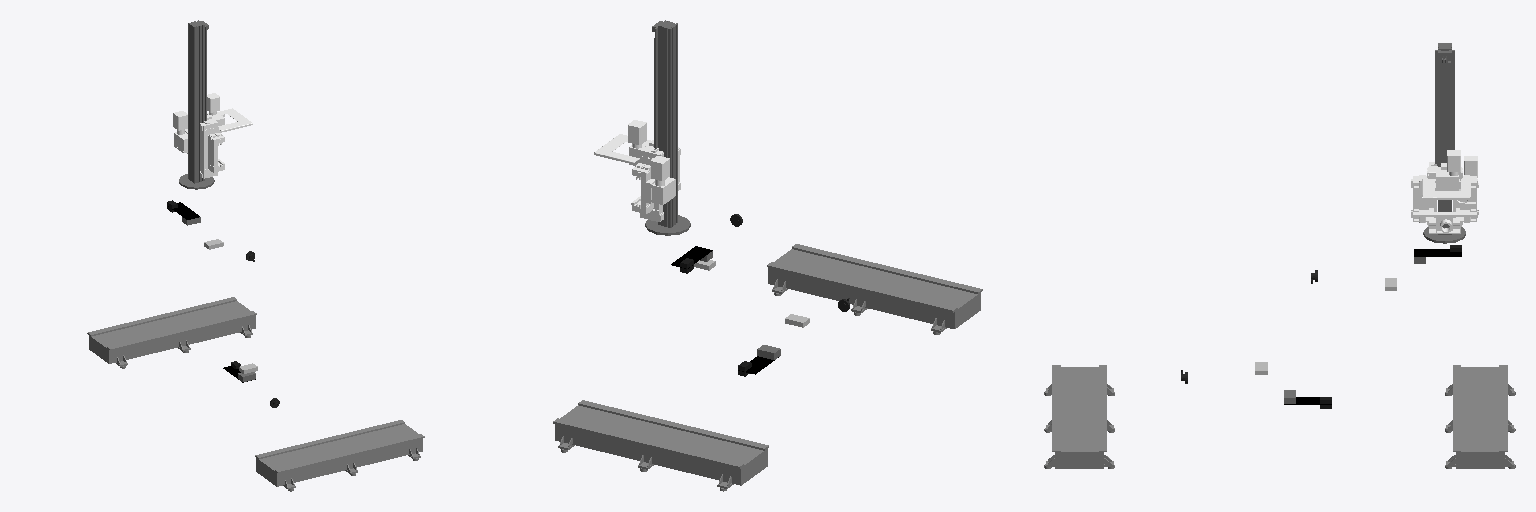
--- Render facts (derived) ---
The picture shows the robot from 3 angles, left to right: view 1: azimuth 30°, elevation 25°; view 2: azimuth 150°, elevation 25°; view 3: azimuth 270°, elevation 25°; orthographic projection.
Model robotlab with 37 links and 36 joints (12 revolute, 3 prismatic, 21 fixed), rooted at root, posed all joints at 0.
Visible links, largest first — view 1: gantry_link_base, gantry_link_arm, gantry_link_trolley; view 2: gantry_link_base, gantry_link_arm, gantry_link_trolley; view 3: gantry_link_base, gantry_link_trolley, gantry_link_arm.
Boxes of the visible links, x1,y1,x2,y2 form: gantry_link_base: (87,297,424,491); gantry_link_arm: (179,20,214,189); gantry_link_trolley: (173,93,252,178); gantry_link_base: (553,244,982,491); gantry_link_arm: (645,20,690,235); gantry_link_trolley: (594,120,680,221); gantry_link_base: (1044,365,1515,468); gantry_link_trolley: (1411,150,1478,233); gantry_link_arm: (1423,43,1465,243).
Size in the robot's own frame: 2.81 by 6.57 by 6.01 metres.
5 mesh visuals loaded from 12 distinct referenced files (4 binary STL); not drawn: 15 (reference not matched to a file when rendering).

robot.urdf — robotlab:
<?xml version="1.0"?>
<!-- =================================================================================== -->
<!-- |    This document was autogenerated by xacro from robotlab.xacro                 | -->
<!-- |    EDITING THIS FILE BY HAND IS NOT RECOMMENDED                                 | -->
<!-- =================================================================================== -->
<!--Generates a urdf from the macro in gantry_macro.xacro -->
<robot xmlns:xacro="http://www.ros.org/wiki/xacro" name="robotlab">
  <!-- created with Phobos 0.7 -->
  <link name="gantry_link_arm">
    <inertial>
      <origin rpy="0 0 0" xyz="0 0 0"/>
      <mass value="100.0"/>
      <inertia ixx="77.157539" ixy="-0.43952" ixz="-0.013708" iyy="77.235046" iyz="-8e-06" izz="1.060431"/>
    </inertial>
    <visual name="gantry_visual_arm">
      <origin rpy="1.57079632679 0 0" xyz="0 0 0"/>
      <geometry>
        <mesh filename="package://gantry_support/meshes/VIFS96.stl" scale="1.0 1.0 1.0"/>
      </geometry>
      <material name="gantry_VMtl98"/>
    </visual>
    <collision name="gantry_collision_arm">
      <origin rpy="0 0 0" xyz="0 0 1.34717"/>
      <geometry>
        <mesh filename="package://gantry_support/meshes/Cylinder.stl" scale="0.188288 0.188288 0.188288"/>
      </geometry>
    </collision>
  </link>
  <link name="gantry_link_base">
    <inertial>
      <origin rpy="0 0 0" xyz="0 0 0"/>
      <mass value="100.0"/>
      <inertia ixx="71.623734" ixy="3.1e-05" ixz="0" iyy="788.87262" iyz="1.2e-05" izz="851.100647"/>
    </inertial>
    <visual name="gantry_visual_base">
      <origin rpy="1.57079632679 -1.57079632679 0" xyz="0 0 0"/>
      <geometry>
        <mesh filename="package://gantry_support/meshes/VIFS01.001.stl" scale="1.0 1.0 1.0"/>
      </geometry>
      <material name="gantry_03___Default.001"/>
    </visual>
    <collision name="gantry_collision_base">
      <origin rpy="1.57079632679 -1.57079632679 0" xyz="0 0 0"/>
      <geometry>
        <mesh filename="package://gantry_support/meshes/VIFS01.000.stl" scale="1.0 1.0 1.0"/>
      </geometry>
    </collision>
  </link>
  <link name="gantry_link_leg">
    <inertial>
      <origin rpy="0 0 0" xyz="0 0.114805 -0.069116"/>
      <mass value="1000.0"/>
      <inertia ixx="1880.551147" ixy="0.000232" ixz="0" iyy="7958.77002" iyz="-13.379694" izz="6216.929688"/>
    </inertial>
    <visual name="gantry_visual_leg">
      <origin rpy="1.57079632679 -1.57079632679 0" xyz="0 0.114805 -0.069116"/>
      <geometry>
        <mesh filename="package://gantry_support/meshes/VIFS42.001.stl" scale="1.0 1.0 1.0"/>
      </geometry>
      <material name="gantry_01___Default.001"/>
    </visual>
    <collision name="gantry_collision_leg">
      <origin rpy="1.57079632679 -1.57079632679 0" xyz="0.000315 0.114805 -0.069116"/>
      <geometry>
        <mesh filename="package://gantry_support/meshes/VIFS42.000.stl" scale="1.0 1.0 1.0"/>
      </geometry>
    </collision>
  </link>
  <link name="gantry_link_trolley">
    <inertial>
      <origin rpy="0 0 0" xyz="0 0 0"/>
      <mass value="100.0"/>
      <inertia ixx="15.599652" ixy="1.71094" ixz="1.886528" iyy="9.19625" iyz="0.938975" izz="14.022485"/>
    </inertial>
    <visual name="gantry_visual_trolley">
      <origin rpy="-3.14159265359 0 0" xyz="0 0 0"/>
      <geometry>
        <mesh filename="package://gantry_support/meshes/VIFS43.001.stl" scale="1.0 1.0 1.0"/>
      </geometry>
      <material name="gantry_02___Default.001"/>
    </visual>
    <collision name="gantry_collision_trolley">
      <origin rpy="1.57079632679 0 0" xyz="-0.020567 0.254046 -0.042038"/>
      <geometry>
        <mesh filename="package://gantry_support/meshes/Cube.005.stl" scale="0.129538 0.485533 0.188935"/>
      </geometry>
    </collision>
  </link>
  <link name="gantry_robot_connection">
    </link>
  <link name="gantry_root">
    </link>
  <joint name="gantry_joint_e3" type="prismatic">
    <origin rpy="1.57079632679 0 0" xyz="-0.164527 -0.651668 -0.053205"/>
    <parent link="gantry_link_trolley"/>
    <child link="gantry_link_arm"/>
    <axis xyz="0 0 1.0"/>
    <limit effort="1.0" lower="-1.6" upper="0" velocity="0.55"/>
  </joint>
  <joint name="gantry_link_base" type="fixed">
    <origin rpy="0 1.57079632679 0" xyz="0 0 0"/>
    <parent link="gantry_root"/>
    <child link="gantry_link_base"/>
  </joint>
  <joint name="gantry_joint_e1" type="prismatic">
    <origin rpy="0 0 0" xyz="-2.570369 -0.057403 0.844145"/>
    <parent link="gantry_link_base"/>
    <child link="gantry_link_leg"/>
    <axis xyz="0 0 -1.0"/>
    <limit effort="1.0" lower="0" upper="1.54" velocity="0.5"/>
  </joint>
  <joint name="gantry_joint_e2" type="prismatic">
    <origin rpy="-1.57079632679 -1.57079632679 0" xyz="-1.277963 2.407403 -0.476427"/>
    <parent link="gantry_link_leg"/>
    <child link="gantry_link_trolley"/>
    <axis xyz="0 0 -1.0"/>
    <limit effort="1.0" lower="0" upper="4.7" velocity="0.83"/>
  </joint>
  <joint name="gantry_robot_connection" type="fixed">
    <origin rpy="-3.14159265359 0 0" xyz="-0.026405 0.000343 -1.392678"/>
    <parent link="gantry_link_arm"/>
    <child link="gantry_robot_connection"/>
  </joint>
  <material name="gantry_01___Default.001">
    <color rgba="0.1922 0.4588 1.0 1.0"/>
  </material>
  <material name="gantry_02___Default.001">
    <color rgba="1.0 1.0 1.0 1.0"/>
  </material>
  <material name="gantry_03___Default.001">
    <color rgba="0.5882 0.5882 0.5882 1.0"/>
  </material>
  <material name="gantry_VMtl98">
    <color rgba="0.5 0.5 0.5 1.0"/>
  </material>
  <!-- LINKS -->
  <!-- base link -->
  <link name="gantry_base_link">
    <inertial>
      <origin rpy="0 0 0" xyz="0 0 0"/>
      <mass value="2"/>
      <inertia ixx="0.01" ixy="0" ixz="0" iyy="0.01" iyz="0" izz="0.01"/>
    </inertial>
    <visual>
      <origin rpy="0 0 0" xyz="0 0 0"/>
      <geometry>
        <mesh filename="package://kuka_kr16_support/meshes/kr16_2/visual/base_link.dae"/>
      </geometry>
    </visual>
    <collision>
      <origin rpy="0 0 0" xyz="0 0 0"/>
      <geometry>
        <mesh filename="package://kuka_kr16_support/meshes/kr16_2/collision/base_link.stl"/>
      </geometry>
    </collision>
  </link>
  <!-- link 1 (A1) -->
  <link name="gantry_link_1">
    <inertial>
      <origin rpy="0 0 0" xyz="0 0 0"/>
      <mass value="2"/>
      <inertia ixx="0.01" ixy="0" ixz="0" iyy="0.01" iyz="0" izz="0.01"/>
    </inertial>
    <visual>
      <origin rpy="0 0 0" xyz="0 0 0"/>
      <geometry>
        <mesh filename="package://kuka_kr16_support/meshes/kr16_2/visual/link_1.dae"/>
      </geometry>
    </visual>
    <collision>
      <origin rpy="0 0 0" xyz="0 0 0"/>
      <geometry>
        <mesh filename="package://kuka_kr16_support/meshes/kr16_2/collision/link_1.stl"/>
      </geometry>
    </collision>
  </link>
  <!-- link 2 -->
  <link name="gantry_link_2">
    <inertial>
      <origin rpy="0 0 0" xyz="0 0 0"/>
      <mass value="2"/>
      <inertia ixx="0.01" ixy="0" ixz="0" iyy="0.01" iyz="0" izz="0.01"/>
    </inertial>
    <visual>
      <origin rpy="0 0 0" xyz="0 0 0"/>
      <geometry>
        <mesh filename="package://kuka_kr16_support/meshes/kr16_2/visual/link_2.dae"/>
      </geometry>
    </visual>
    <collision>
      <origin rpy="0 0 0" xyz="0 0 0"/>
      <geometry>
        <mesh filename="package://kuka_kr16_support/meshes/kr16_2/collision/link_2.stl"/>
      </geometry>
    </collision>
  </link>
  <!-- link 3 -->
  <link name="gantry_link_3">
    <inertial>
      <origin rpy="0 0 0" xyz="0 0 0"/>
      <mass value="2"/>
      <inertia ixx="0.01" ixy="0" ixz="0" iyy="0.01" iyz="0" izz="0.01"/>
    </inertial>
    <visual>
      <origin rpy="0 0 0" xyz="0 0 0"/>
      <geometry>
        <mesh filename="package://kuka_kr16_support/meshes/kr16_2/visual/link_3.dae"/>
      </geometry>
    </visual>
    <collision>
      <origin rpy="0 0 0" xyz="0 0 0"/>
      <geometry>
        <mesh filename="package://kuka_kr16_support/meshes/kr16_2/collision/link_3.stl"/>
      </geometry>
    </collision>
  </link>
  <!-- link 4 -->
  <link name="gantry_link_4">
    <inertial>
      <origin rpy="0 0 0" xyz="0 0 0"/>
      <mass value="2"/>
      <inertia ixx="0.01" ixy="0" ixz="0" iyy="0.01" iyz="0" izz="0.01"/>
    </inertial>
    <visual>
      <origin rpy="0 0 0" xyz="0 0 0"/>
      <geometry>
        <mesh filename="package://kuka_kr16_support/meshes/kr16_2/visual/link_4.dae"/>
      </geometry>
    </visual>
    <collision>
      <origin rpy="0 0 0" xyz="0 0 0"/>
      <geometry>
        <mesh filename="package://kuka_kr16_support/meshes/kr16_2/collision/link_4.stl"/>
      </geometry>
    </collision>
  </link>
  <!-- link 5 -->
  <link name="gantry_link_5">
    <inertial>
      <origin rpy="0 0 0" xyz="0 0 0"/>
      <mass value="2"/>
      <inertia ixx="0.01" ixy="0" ixz="0" iyy="0.01" iyz="0" izz="0.01"/>
    </inertial>
    <visual>
      <origin rpy="0 0 0" xyz="0 0 0"/>
      <geometry>
        <mesh filename="package://kuka_kr16_support/meshes/kr16_2/visual/link_5.dae"/>
      </geometry>
    </visual>
    <collision>
      <origin rpy="0 0 0" xyz="0 0 0"/>
      <geometry>
        <mesh filename="package://kuka_kr16_support/meshes/kr16_2/collision/link_5.stl"/>
      </geometry>
    </collision>
  </link>
  <!-- link 6 -->
  <link name="gantry_link_6">
    <inertial>
      <origin rpy="0 0 0" xyz="0 0 0"/>
      <mass value="2"/>
      <inertia ixx="0.01" ixy="0" ixz="0" iyy="0.01" iyz="0" izz="0.01"/>
    </inertial>
    <visual>
      <origin rpy="0 0 0" xyz="0 0 0"/>
      <geometry>
        <mesh filename="package://kuka_kr16_support/meshes/kr16_2/visual/link_6.dae"/>
      </geometry>
    </visual>
    <collision>
      <origin rpy="0 0 0" xyz="0 0 0"/>
      <geometry>
        <mesh filename="package://kuka_kr16_support/meshes/kr16_2/collision/link_6.stl"/>
      </geometry>
    </collision>
  </link>
  <!-- tool 0 -->
  <!-- This frame corresponds to the $FLANGE coordinate system in KUKA KRC controllers. -->
  <link name="gantry_tool0"/>
  <!-- END LINKS -->
  <!-- JOINTS -->
  <!-- joint 1 (A1) -->
  <joint name="gantry_joint_a1" type="revolute">
    <origin rpy="0 0 0" xyz="0 0 0.675"/>
    <parent link="gantry_base_link"/>
    <child link="gantry_link_1"/>
    <axis xyz="0 0 -1"/>
    <limit effort="0" lower="-3.22885911619" upper="3.22885911619" velocity="2.72271363311"/>
  </joint>
  <!-- joint 2 (A2) -->
  <joint name="gantry_joint_a2" type="revolute">
    <origin rpy="0 0 0" xyz="0.26 0 0"/>
    <parent link="gantry_link_1"/>
    <child link="gantry_link_2"/>
    <axis xyz="0 1 0"/>
    <limit effort="0" lower="-2.70526034059" upper="0.610865238198" velocity="2.72271363311"/>
  </joint>
  <!-- joint 3 (A3) -->
  <joint name="gantry_joint_a3" type="revolute">
    <origin rpy="0 0 0" xyz="0.68 0 0"/>
    <parent link="gantry_link_2"/>
    <child link="gantry_link_3"/>
    <axis xyz="0 1 0"/>
    <limit effort="0" lower="-2.26892802759" upper="2.68780704807" velocity="2.72271363311"/>
  </joint>
  <!-- joint 4 (A4) -->
  <joint name="gantry_joint_a4" type="revolute">
    <origin rpy="0 0 0" xyz="0.67 0 -0.035"/>
    <parent link="gantry_link_3"/>
    <child link="gantry_link_4"/>
    <axis xyz="-1 0 0"/>
    <limit effort="0" lower="-6.10865238198" upper="6.10865238198" velocity="5.75958653158"/>
  </joint>
  <!-- joint 5 (A5) -->
  <joint name="gantry_joint_a5" type="revolute">
    <origin rpy="0 0 0" xyz="0 0 0"/>
    <parent link="gantry_link_4"/>
    <child link="gantry_link_5"/>
    <axis xyz="0 1 0"/>
    <limit effort="0" lower="-2.26892802759" upper="2.26892802759" velocity="5.75958653158"/>
  </joint>
  <!-- joint 6 (A6) -->
  <joint name="gantry_joint_a6" type="revolute">
    <origin rpy="0 0 0" xyz="0 0 0"/>
    <parent link="gantry_link_5"/>
    <child link="gantry_link_6"/>
    <axis xyz="-1 0 0"/>
    <limit effort="0" lower="-6.10865238198" upper="6.10865238198" velocity="10.7337748998"/>
  </joint>
  <!-- tool frame - fixed frame -->
  <joint name="gantry_joint_a6-tool0" type="fixed">
    <parent link="gantry_link_6"/>
    <child link="gantry_tool0"/>
    <origin rpy="0 1.57079632679 0" xyz="0.158 0 0"/>
  </joint>
  <!-- END JOINTS -->
  <!-- ROS base_link to KUKA $ROBROOT coordinate system transform -->
  <link name="gantry_base"/>
  <joint name="gantry_base_link-base" type="fixed">
    <origin rpy="0 0 0" xyz="0 0 0"/>
    <parent link="gantry_base_link"/>
    <child link="gantry_base"/>
  </joint>
  <joint name="gantry_gantry_robot" type="fixed">
    <origin rpy="0 0 1.57079632679" xyz="0 0 0"/>
    <parent link="gantry_robot_connection"/>
    <child link="gantry_base_link"/>
  </joint>
  <!-- LINKS -->
  <!-- base link -->
  <link name="floor_base_link">
    <inertial>
      <origin rpy="0 0 0" xyz="0 0 0"/>
      <mass value="2"/>
      <inertia ixx="0.01" ixy="0" ixz="0" iyy="0.01" iyz="0" izz="0.01"/>
    </inertial>
    <visual>
      <origin rpy="0 0 0" xyz="0 0 0"/>
      <geometry>
        <mesh filename="package://kuka_kr16_support/meshes/kr16_2/visual/base_link.dae"/>
      </geometry>
    </visual>
    <collision>
      <origin rpy="0 0 0" xyz="0 0 0"/>
      <geometry>
        <mesh filename="package://kuka_kr16_support/meshes/kr16_2/collision/base_link.stl"/>
      </geometry>
    </collision>
  </link>
  <!-- link 1 (A1) -->
  <link name="floor_link_1">
    <inertial>
      <origin rpy="0 0 0" xyz="0 0 0"/>
      <mass value="2"/>
      <inertia ixx="0.01" ixy="0" ixz="0" iyy="0.01" iyz="0" izz="0.01"/>
    </inertial>
    <visual>
      <origin rpy="0 0 0" xyz="0 0 0"/>
      <geometry>
        <mesh filename="package://kuka_kr16_support/meshes/kr16_2/visual/link_1.dae"/>
      </geometry>
    </visual>
    <collision>
      <origin rpy="0 0 0" xyz="0 0 0"/>
      <geometry>
        <mesh filename="package://kuka_kr16_support/meshes/kr16_2/collision/link_1.stl"/>
      </geometry>
    </collision>
  </link>
  <!-- link 2 -->
  <link name="floor_link_2">
    <inertial>
      <origin rpy="0 0 0" xyz="0 0 0"/>
      <mass value="2"/>
      <inertia ixx="0.01" ixy="0" ixz="0" iyy="0.01" iyz="0" izz="0.01"/>
    </inertial>
    <visual>
      <origin rpy="0 0 0" xyz="0 0 0"/>
      <geometry>
        <mesh filename="package://kuka_kr16_support/meshes/kr16_2/visual/link_2.dae"/>
      </geometry>
    </visual>
    <collision>
      <origin rpy="0 0 0" xyz="0 0 0"/>
      <geometry>
        <mesh filename="package://kuka_kr16_support/meshes/kr16_2/collision/link_2.stl"/>
      </geometry>
    </collision>
  </link>
  <!-- link 3 -->
  <link name="floor_link_3">
    <inertial>
      <origin rpy="0 0 0" xyz="0 0 0"/>
      <mass value="2"/>
      <inertia ixx="0.01" ixy="0" ixz="0" iyy="0.01" iyz="0" izz="0.01"/>
    </inertial>
    <visual>
      <origin rpy="0 0 0" xyz="0 0 0"/>
      <geometry>
        <mesh filename="package://kuka_kr16_support/meshes/kr16_2/visual/link_3.dae"/>
      </geometry>
    </visual>
    <collision>
      <origin rpy="0 0 0" xyz="0 0 0"/>
      <geometry>
        <mesh filename="package://kuka_kr16_support/meshes/kr16_2/collision/link_3.stl"/>
      </geometry>
    </collision>
  </link>
  <!-- link 4 -->
  <link name="floor_link_4">
    <inertial>
      <origin rpy="0 0 0" xyz="0 0 0"/>
      <mass value="2"/>
      <inertia ixx="0.01" ixy="0" ixz="0" iyy="0.01" iyz="0" izz="0.01"/>
    </inertial>
    <visual>
      <origin rpy="0 0 0" xyz="0 0 0"/>
      <geometry>
        <mesh filename="package://kuka_kr16_support/meshes/kr16_2/visual/link_4.dae"/>
      </geometry>
    </visual>
    <collision>
      <origin rpy="0 0 0" xyz="0 0 0"/>
      <geometry>
        <mesh filename="package://kuka_kr16_support/meshes/kr16_2/collision/link_4.stl"/>
      </geometry>
    </collision>
  </link>
  <!-- link 5 -->
  <link name="floor_link_5">
    <inertial>
      <origin rpy="0 0 0" xyz="0 0 0"/>
      <mass value="2"/>
      <inertia ixx="0.01" ixy="0" ixz="0" iyy="0.01" iyz="0" izz="0.01"/>
    </inertial>
    <visual>
      <origin rpy="0 0 0" xyz="0 0 0"/>
      <geometry>
        <mesh filename="package://kuka_kr16_support/meshes/kr16_2/visual/link_5.dae"/>
      </geometry>
    </visual>
    <collision>
      <origin rpy="0 0 0" xyz="0 0 0"/>
      <geometry>
        <mesh filename="package://kuka_kr16_support/meshes/kr16_2/collision/link_5.stl"/>
      </geometry>
    </collision>
  </link>
  <!-- link 6 -->
  <link name="floor_link_6">
    <inertial>
      <origin rpy="0 0 0" xyz="0 0 0"/>
      <mass value="2"/>
      <inertia ixx="0.01" ixy="0" ixz="0" iyy="0.01" iyz="0" izz="0.01"/>
    </inertial>
    <visual>
      <origin rpy="0 0 0" xyz="0 0 0"/>
      <geometry>
        <mesh filename="package://kuka_kr16_support/meshes/kr16_2/visual/link_6.dae"/>
      </geometry>
    </visual>
    <collision>
      <origin rpy="0 0 0" xyz="0 0 0"/>
      <geometry>
        <mesh filename="package://kuka_kr16_support/meshes/kr16_2/collision/link_6.stl"/>
      </geometry>
    </collision>
  </link>
  <!-- tool 0 -->
  <!-- This frame corresponds to the $FLANGE coordinate system in KUKA KRC controllers. -->
  <link name="floor_tool0"/>
  <!-- END LINKS -->
  <!-- JOINTS -->
  <!-- joint 1 (A1) -->
  <joint name="floor_joint_a1" type="revolute">
    <origin rpy="0 0 0" xyz="0 0 0.675"/>
    <parent link="floor_base_link"/>
    <child link="floor_link_1"/>
    <axis xyz="0 0 -1"/>
    <limit effort="0" lower="-3.22885911619" upper="3.22885911619" velocity="2.72271363311"/>
  </joint>
  <!-- joint 2 (A2) -->
  <joint name="floor_joint_a2" type="revolute">
    <origin rpy="0 0 0" xyz="0.26 0 0"/>
    <parent link="floor_link_1"/>
    <child link="floor_link_2"/>
    <axis xyz="0 1 0"/>
    <limit effort="0" lower="-2.70526034059" upper="0.610865238198" velocity="2.72271363311"/>
  </joint>
  <!-- joint 3 (A3) -->
  <joint name="floor_joint_a3" type="revolute">
    <origin rpy="0 0 0" xyz="0.68 0 0"/>
    <parent link="floor_link_2"/>
    <child link="floor_link_3"/>
    <axis xyz="0 1 0"/>
    <limit effort="0" lower="-2.26892802759" upper="2.68780704807" velocity="2.72271363311"/>
  </joint>
  <!-- joint 4 (A4) -->
  <joint name="floor_joint_a4" type="revolute">
    <origin rpy="0 0 0" xyz="0.67 0 -0.035"/>
    <parent link="floor_link_3"/>
    <child link="floor_link_4"/>
    <axis xyz="-1 0 0"/>
    <limit effort="0" lower="-6.10865238198" upper="6.10865238198" velocity="5.75958653158"/>
  </joint>
  <!-- joint 5 (A5) -->
  <joint name="floor_joint_a5" type="revolute">
    <origin rpy="0 0 0" xyz="0 0 0"/>
    <parent link="floor_link_4"/>
    <child link="floor_link_5"/>
    <axis xyz="0 1 0"/>
    <limit effort="0" lower="-2.26892802759" upper="2.26892802759" velocity="5.75958653158"/>
  </joint>
  <!-- joint 6 (A6) -->
  <joint name="floor_joint_a6" type="revolute">
    <origin rpy="0 0 0" xyz="0 0 0"/>
    <parent link="floor_link_5"/>
    <child link="floor_link_6"/>
    <axis xyz="-1 0 0"/>
    <limit effort="0" lower="-6.10865238198" upper="6.10865238198" velocity="10.7337748998"/>
  </joint>
  <!-- tool frame - fixed frame -->
  <joint name="floor_joint_a6-tool0" type="fixed">
    <parent link="floor_link_6"/>
    <child link="floor_tool0"/>
    <origin rpy="0 1.57079632679 0" xyz="0.158 0 0"/>
  </joint>
  <!-- END JOINTS -->
  <!-- ROS base_link to KUKA $ROBROOT coordinate system transform -->
  <link name="floor_base"/>
  <joint name="floor_base_link-base" type="fixed">
    <origin rpy="0 0 0" xyz="0 0 0"/>
    <parent link="floor_base_link"/>
    <child link="floor_base"/>
  </joint>
  <link name="gantry_FTC-SWS">
    <intertial>
      <origin rpy="0 0 0" xyz="-0.00141168 -0.03561248 -0.00058552"/>
      <mass value="2.36"/>
      <inertia ixx="2.6282072064e-6" ixy="-9.42992384e-8" ixz="-5.73180928e-8" iyy="3.8189375488e-6" iyz="-3.91095296e-8" izz="2.7425937408e-6"/>
    </intertial>
    <visual>
      <origin rpy="0 0 0" xyz="0 0 0"/>
      <geometry>
        <mesh filename="package://robotlab_support/meshes/schunk/visual/forcetourqe_toolchange.stl" scale="0.04 0.04 0.04"/>
      </geometry>
      <material name="grey">
        <color rgba=".2 .2 .2 1"/>
      </material>
    </visual>
    <collision>
      <origin rpy="0 0 0" xyz="0 0 0"/>
      <geometry>
        <mesh filename="package://robotlab_support/meshes/schunk/visual/forcetourqe_toolchange.stl" scale="0.05 0.05 0.05"/>
      </geometry>
    </collision>
  </link>
  <link name="floor_FTC-SWS">
    <intertial>
      <origin rpy="0 0 0" xyz="-0.00141168 -0.03561248 -0.00058552"/>
      <mass value="2.36"/>
      <inertia ixx="2.6282072064e-6" ixy="-9.42992384e-8" ixz="-5.73180928e-8" iyy="3.8189375488e-6" iyz="-3.91095296e-8" izz="2.7425937408e-6"/>
    </intertial>
    <visual>
      <origin rpy="0 0 0" xyz="0 0 0"/>
      <geometry>
        <mesh filename="package://robotlab_support/meshes/schunk/visual/forcetourqe_toolchange.stl" scale="0.04 0.04 0.04"/>
      </geometry>
      <material name="grey">
        <color rgba=".2 .2 .2 1"/>
      </material>
    </visual>
    <collision>
      <origin rpy="0 0 0" xyz="0 0 0"/>
      <geometry>
        <mesh filename="package://robotlab_support/meshes/schunk/visual/forcetourqe_toolchange.stl" scale="0.05 0.05 0.05"/>
      </geometry>
    </collision>
  </link>
  <link name="gantry_A1_utility_plate">
    <visual>
      <geometry>
        <box size="0.67 0.26 0.005"/>
      </geometry>
      <material name="black">
        <color rgba="0 0 0 1"/>
      </material>
    </visual>
    <collision>
      <geometry>
        <box size="0.7 0.3 0.10"/>
      </geometry>
    </collision>
    <inertial>
      <mass value="0.5"/>
      <inertia ixx="0.0028177" ixy="0" ixz="0" iyy="0.018705208" iyz="0" izz="0.0215208"/>
    </inertial>
  </link>
  <link name="gantry_A1_BOX">
    <visual>
      <geometry>
        <box size="0.167 0.107 0.065"/>
      </geometry>
      <material name="backish">
        <color rgba="0.15 0.15 0.15 1"/>
      </material>
      <origin rpy="0 0 0" xyz="-0.0835 -0.0535 -0.0325"/>
    </visual>
    <collision>
      <geometry>
        <box size="0.18 0.12 0.08"/>
      </geometry>
      <origin rpy="0 0 0" xyz="-0.0835 -0.0535 -0.0325"/>
    </collision>
    <inertial>
      <mass value="0.5"/>
      <inertia ixx="0.000866" ixy="0" ixz="0" iyy="0.001428708" iyz="0" izz="0.0016390833"/>
    </inertial>
  </link>
  <link name="gantry_A1_BOX2">
    <visual>
      <geometry>
        <box size="0.167 0.107 0.065"/>
      </geometry>
      <material name="blackish">
        <color rgba="0.15 0.15 0.15 1"/>
      </material>
      <origin rpy="0 0 0" xyz="-0.0835 -0.0535 0.0325"/>
    </visual>
    <collision>
      <geometry>
        <box size="0.18 0.12 0.08"/>
      </geometry>
      <origin rpy="0 0 0" xyz="-0.0835 -0.0535 -0.0325"/>
    </collision>
    <inertial>
      <mass value="0.5"/>
      <inertia ixx="0.000866" ixy="0" ixz="0" iyy="0.001428708" iyz="0" izz="0.0016390833"/>
    </inertial>
  </link>
  <link name="gantry_A1_DCDC">
    <visual>
      <geometry>
        <box size="0.17 0.26 0.1"/>
      </geometry>
      <material name="greyish">
        <color rgba="0.5 0.5 0.5 1"/>
      </material>
      <origin rpy="0 0 0" xyz="-0.085 -0.13 0.05"/>
    </visual>
    <collision>
      <geometry>
        <box size="0.2 0.3 0.15"/>
      </geometry>
      <origin rpy="0 0 0" xyz="-0.085 -0.13 0.05"/>
    </collision>
    <inertial>
      <mass value="0.5"/>
      <inertia ixx="0.000866" ixy="0" ixz="0" iyy="0.001428708" iyz="0" izz="0.0016390833"/>
    </inertial>
  </link>
  <joint name="gantry_A1_plate_DCDC" type="fixed">
    <parent link="gantry_A1_utility_plate"/>
    <child link="gantry_A1_DCDC"/>
    <origin rpy="0 0 0" xyz="0.335 0.13 0.0025"/>
  </joint>
  <joint name="gantry_A1_plate_BOX" type="fixed">
    <parent link="gantry_A1_utility_plate"/>
    <child link="gantry_A1_BOX"/>
    <origin rpy="0 0 0" xyz="-0.168 0.13 -0.0025 "/>
  </joint>
  <joint name="gantry_A1_plate_BOX2" type="fixed">
    <parent link="gantry_A1_utility_plate"/>
    <child link="gantry_A1_BOX2"/>
    <origin rpy="0 0 0" xyz="-0.168 0.13 0.0025 "/>
  </joint>
  <link name="floor_A1_utility_plate">
    <visual>
      <geometry>
        <box size="0.67 0.26 0.005"/>
      </geometry>
      <material name="black">
        <color rgba="0 0 0 1"/>
      </material>
    </visual>
    <collision>
      <geometry>
        <box size="0.7 0.3 0.10"/>
      </geometry>
    </collision>
    <inertial>
      <mass value="0.5"/>
      <inertia ixx="0.0028177" ixy="0" ixz="0" iyy="0.018705208" iyz="0" izz="0.0215208"/>
    </inertial>
  </link>
  <link name="floor_A1_BOX">
    <visual>
      <geometry>
        <box size="0.167 0.107 0.065"/>
      </geometry>
      <material name="backish">
        <color rgba="0.15 0.15 0.15 1"/>
      </material>
      <origin rpy="0 0 0" xyz="-0.0835 -0.0535 -0.0325"/>
    </visual>
    <collision>
      <geometry>
        <box size="0.18 0.12 0.08"/>
      </geometry>
      <origin rpy="0 0 0" xyz="-0.0835 -0.0535 -0.0325"/>
    </collision>
    <inertial>
      <mass value="0.5"/>
      <inertia ixx="0.000866" ixy="0" ixz="0" iyy="0.001428708" iyz="0" izz="0.0016390833"/>
    </inertial>
  </link>
  <link name="floor_A1_BOX2">
    <visual>
      <geometry>
        <box size="0.167 0.107 0.065"/>
      </geometry>
      <material name="blackish">
        <color rgba="0.15 0.15 0.15 1"/>
      </material>
      <origin rpy="0 0 0" xyz="-0.0835 -0.0535 0.0325"/>
    </visual>
    <collision>
      <geometry>
        <box size="0.18 0.12 0.08"/>
      </geometry>
      <origin rpy="0 0 0" xyz="-0.0835 -0.0535 -0.0325"/>
    </collision>
    <inertial>
      <mass value="0.5"/>
      <inertia ixx="0.000866" ixy="0" ixz="0" iyy="0.001428708" iyz="0" izz="0.0016390833"/>
    </inertial>
  </link>
  <link name="floor_A1_DCDC">
    <visual>
      <geometry>
        <box size="0.17 0.26 0.1"/>
      </geometry>
      <material name="greyish">
        <color rgba="0.5 0.5 0.5 1"/>
      </material>
      <origin rpy="0 0 0" xyz="-0.085 -0.13 0.05"/>
    </visual>
    <collision>
      <geometry>
        <box size="0.2 0.3 0.15"/>
      </geometry>
      <origin rpy="0 0 0" xyz="-0.085 -0.13 0.05"/>
    </collision>
    <inertial>
      <mass value="0.5"/>
      <inertia ixx="0.000866" ixy="0" ixz="0" iyy="0.001428708" iyz="0" izz="0.0016390833"/>
    </inertial>
  </link>
  <joint name="floor_A1_plate_DCDC" type="fixed">
    <parent link="floor_A1_utility_plate"/>
    <child link="floor_A1_DCDC"/>
    <origin rpy="0 0 0" xyz="0.335 0.13 0.0025"/>
  </joint>
  <joint name="floor_A1_plate_BOX" type="fixed">
    <parent link="floor_A1_utility_plate"/>
    <child link="floor_A1_BOX"/>
    <origin rpy="0 0 0" xyz="-0.168 0.13 -0.0025 "/>
  </joint>
  <joint name="floor_A1_plate_BOX2" type="fixed">
    <parent link="floor_A1_utility_plate"/>
    <child link="floor_A1_BOX2"/>
    <origin rpy="0 0 0" xyz="-0.168 0.13 0.0025 "/>
  </joint>
  <link name="floor_A3_box">
    <visual>
      <geometry>
        <box size="0.28 0.17 0.07"/>
      </geometry>
      <material name="ish">
        <color rgba="0.8 0.8 0.8 1"/>
      </material>
      <origin rpy="0 0 0" xyz="0 -0.085 -0.035"/>
    </visual>
    <collision>
      <geometry>
        <box size="0.35 0.25 0.1"/>
      </geometry>
      <origin rpy="0 0 0" xyz="0 -0.085 -0.035"/>
    </collision>
    <inertial>
      <mass value="0.5"/>
      <inertia ixx="0.001408" ixy="0" ixz="0" iyy="0.00347" iyz="0" izz="0.004470"/>
    </inertial>
  </link>
  <link name="gantry_A3_box">
    <visual>
      <geometry>
        <box size="0.28 0.17 0.07"/>
      </geometry>
      <material name="ish">
        <color rgba="0.8 0.8 0.8 1"/>
      </material>
      <origin rpy="0 0 0" xyz="0 -0.085 -0.035"/>
    </visual>
    <collision>
      <geometry>
        <box size="0.35 0.25 0.1"/>
      </geometry>
      <origin rpy="0 0 0" xyz="0 -0.085 -0.035"/>
    </collision>
    <inertial>
      <mass value="0.5"/>
      <inertia ixx="0.001408" ixy="0" ixz="0" iyy="0.00347" iyz="0" izz="0.004470"/>
    </inertial>
  </link>
  <link name="root">
		</link>
  <joint name="root_gantry_fixed" type="fixed">
    <parent link="root"/>
    <child link="gantry_root"/>
  </joint>
  <joint name="root_floor" type="fixed">
    <origin rpy="0 0 -1.57079632679" xyz="-0.402 0.486 0"/>
    <parent link="root"/>
    <child link="floor_base_link"/>
  </joint>
  <joint name="gantry_tool0_ftc" type="fixed">
    <origin rpy="-1.57079632679 0 0" xyz="0 0 0"/>
    <parent link="gantry_tool0"/>
    <child link="gantry_FTC-SWS"/>
  </joint>
  <joint name="floor_tool0_ftc" type="fixed">
    <origin rpy="-1.57079632679 0 0" xyz="0 0 0"/>
    <parent link="floor_tool0"/>
    <child link="floor_FTC-SWS"/>
  </joint>
  <joint name="gantry_A1_utility" type="fixed">
    <origin rpy="0 0 0" xyz="0.1 0.30 -0.25"/>
    <parent link="gantry_link_1"/>
    <child link="gantry_A1_utility_plate"/>
  </joint>
  <joint name="floor_A1_utility" type="fixed">
    <origin rpy="0 0 0" xyz="0.1 0.30 -0.25"/>
    <parent link="floor_link_1"/>
    <child link="floor_A1_utility_plate"/>
  </joint>
  <joint name="floor_A3_box" type="fixed">
    <origin rpy="0 0 1.57079632679" xyz="-0.28 0.1 0.18"/>
    <parent link="floor_link_3"/>
    <child link="floor_A3_box"/>
  </joint>
  <joint name="gantry_A3_box" type="fixed">
    <origin rpy="0 0 1.57079632679" xyz="-0.28 0.1 0.18"/>
    <parent link="gantry_link_3"/>
    <child link="gantry_A3_box"/>
  </joint>
</robot>
